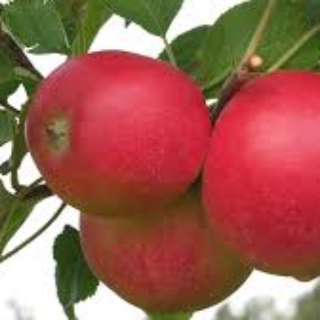tao: (24, 47, 215, 220)
